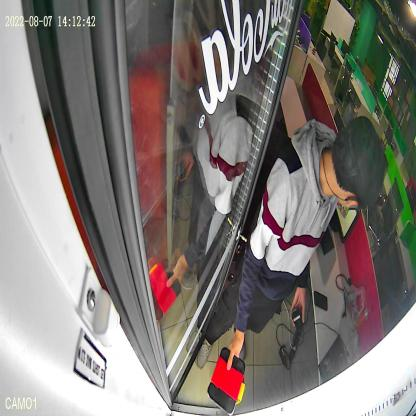red: (208, 347, 245, 415)
yellow: (234, 374, 246, 405)
